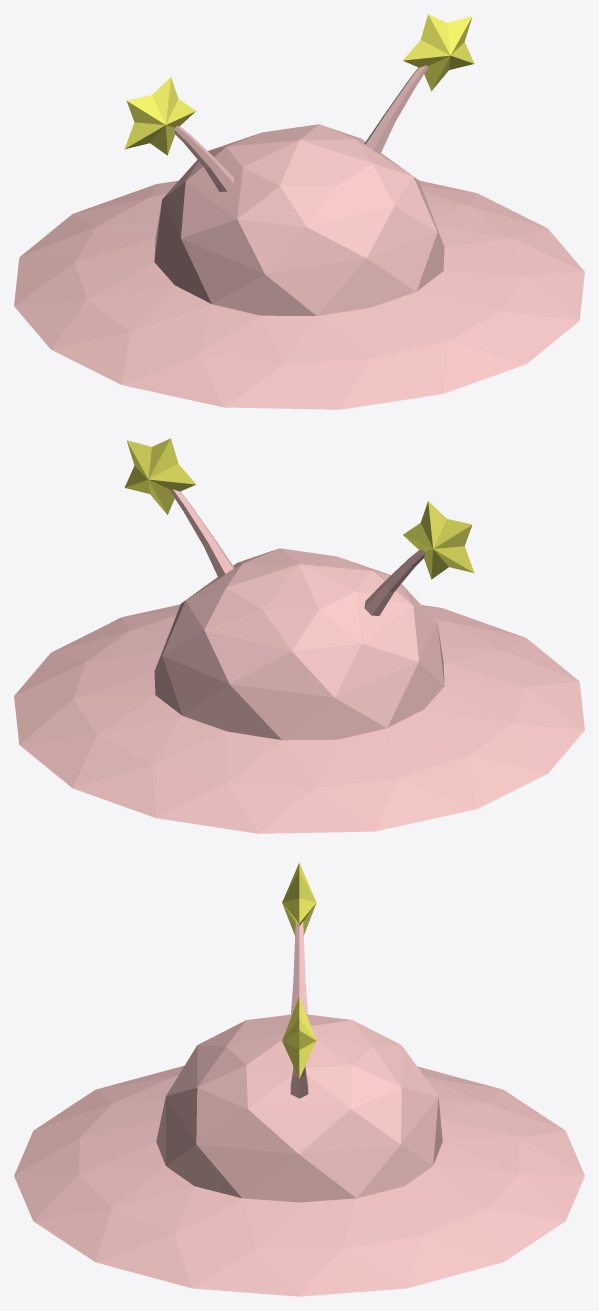
Rendered from MD_UFO_20251118.fbx.
The picture shows the model from 3 angles, top to bottom: view 1: azimuth 30°, elevation 25°; view 2: azimuth 150°, elevation 25°; view 3: azimuth 270°, elevation 25°; orthographic projection.
Parts seen in each view (by area): view 1: polySurface11, polySurface10, polySurface9, polySurface7, polySurface8; view 2: polySurface11, polySurface10, polySurface9, polySurface7, polySurface8; view 3: polySurface11, polySurface9, polySurface10, polySurface8.
Boxes of the visible parts, box(x1,y1,x2,y2) form: polySurface11: box(14, 124, 584, 409); polySurface10: box(124, 77, 195, 155); polySurface9: box(403, 14, 474, 90); polySurface7: box(364, 65, 428, 153); polySurface8: box(174, 126, 234, 191); polySurface11: box(14, 548, 584, 833); polySurface10: box(403, 501, 474, 579); polySurface9: box(124, 438, 195, 514); polySurface7: box(170, 489, 234, 577); polySurface8: box(364, 550, 424, 615); polySurface11: box(14, 1014, 584, 1296); polySurface9: box(282, 996, 316, 1078); polySurface10: box(282, 862, 316, 935); polySurface8: box(291, 921, 307, 1014).
Bounding box in the file's own units: 764 × 429 × 764.
